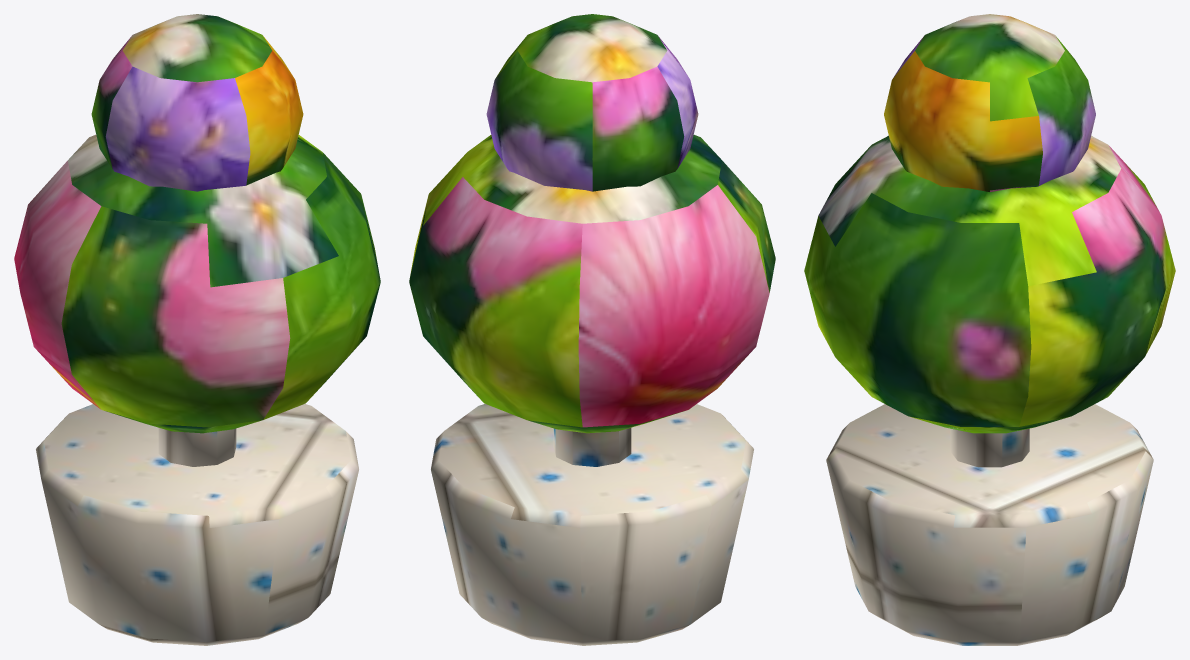
File: deco_jardin_hito.glb
The picture shows the model from 3 angles, left to right: view 1: azimuth 30°, elevation 25°; view 2: azimuth 150°, elevation 25°; view 3: azimuth 270°, elevation 25°; orthographic projection.
Parts seen in each view (by area): view 1: deco_jardin_hito; view 2: deco_jardin_hito; view 3: deco_jardin_hito.
Boxes of the visible parts, bbox=[...] form: deco_jardin_hito: bbox=[14, 14, 380, 645]; deco_jardin_hito: bbox=[409, 14, 775, 645]; deco_jardin_hito: bbox=[804, 14, 1175, 645].
Bounding box in the file's own units: 0.5747 × 1 × 0.5895.
Materials: 2 (2 with a texture image).
